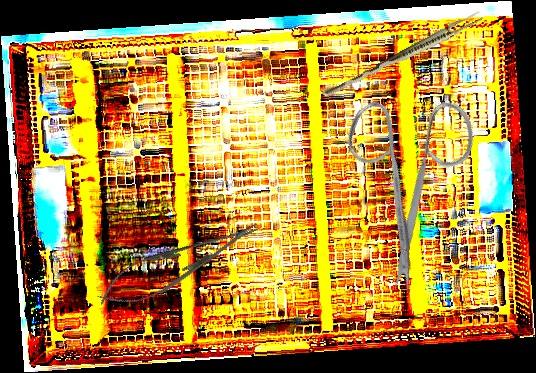Iris Scissors: (297, 61, 532, 299)
Needle Holder: (90, 207, 269, 320)
Tissue Forceps: (320, 7, 485, 104)
